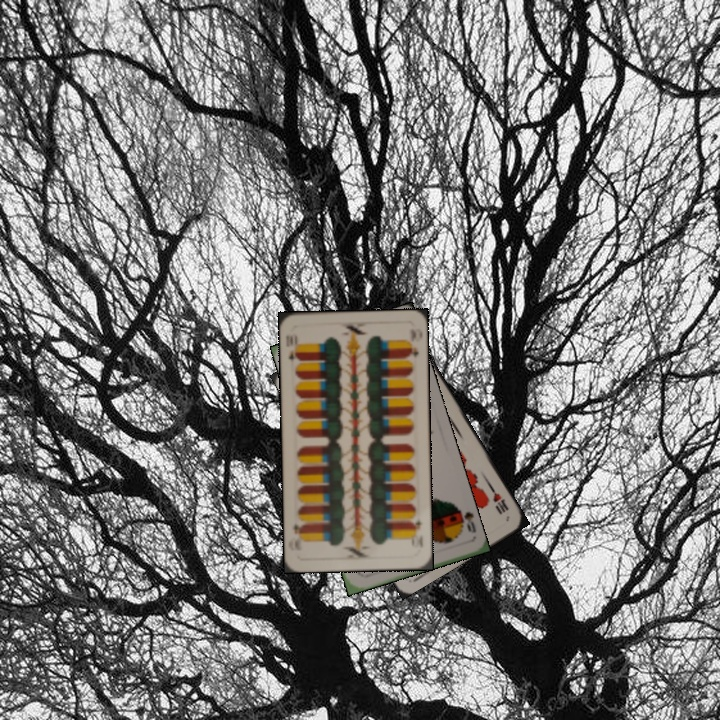E10: (282, 331, 303, 364), (407, 515, 424, 541)
H10: (485, 481, 511, 517)
SO: (451, 502, 479, 535)
